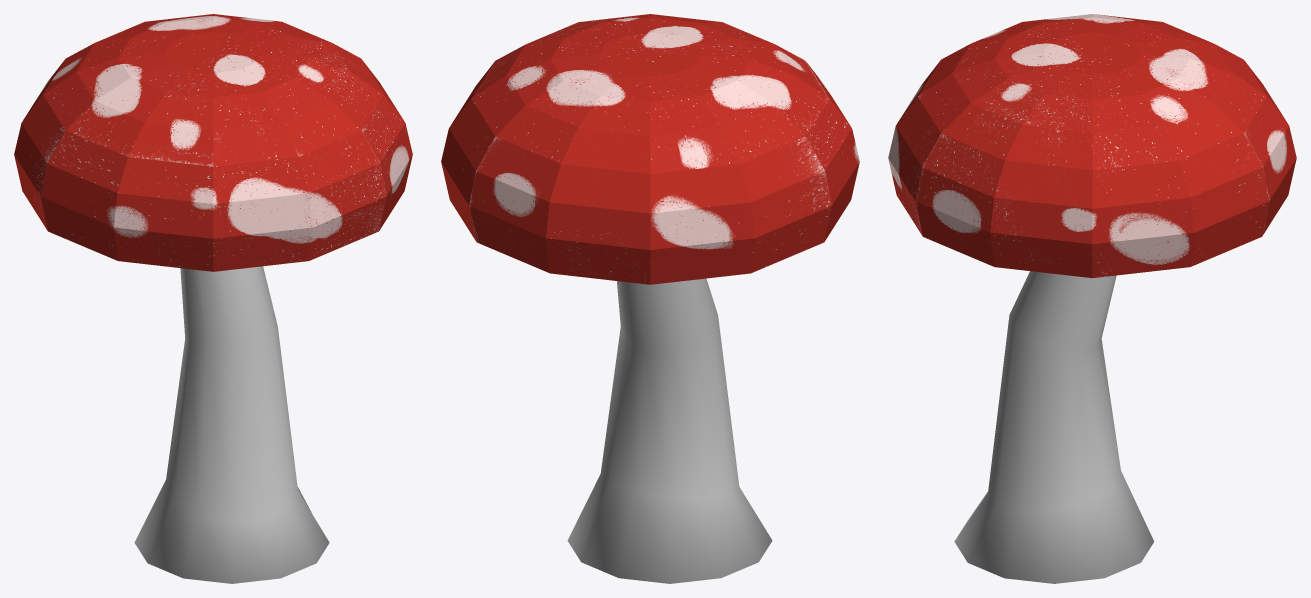
File: mushroom.fbx
3 views of the same model, side by side, from view 1: azimuth 30°, elevation 25°; view 2: azimuth 150°, elevation 25°; view 3: azimuth 270°, elevation 25° (orthographic). The views are drawn at different scales.
Parts seen in each view (by area): view 1: Cylinder.001, Cylinder; view 2: Cylinder.001, Cylinder; view 3: Cylinder.001, Cylinder.
Boxes of the visible parts, x1,y1,x2,y2 form: Cylinder.001: (14, 14, 412, 271); Cylinder: (134, 266, 329, 583); Cylinder.001: (441, 14, 859, 284); Cylinder: (567, 278, 772, 583); Cylinder.001: (888, 14, 1296, 278); Cylinder: (954, 271, 1154, 583).
Size of the model in its own units: 601 by 793 by 601.
